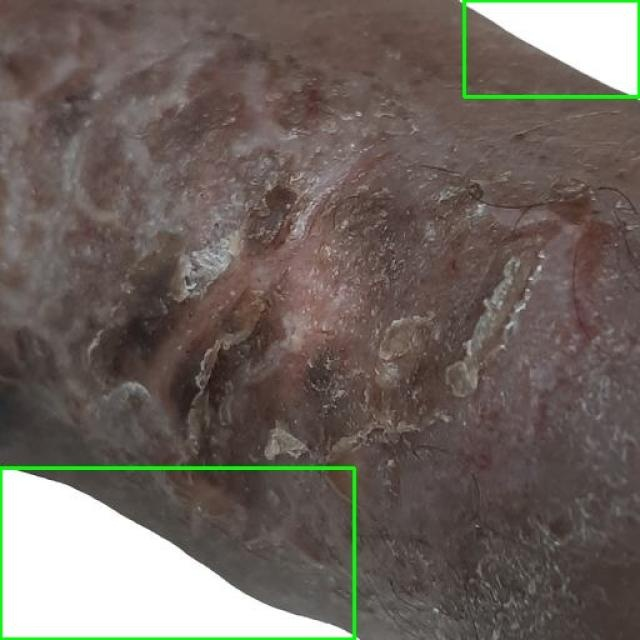Eczema: (0, 468, 354, 639), (464, 0, 639, 96)
